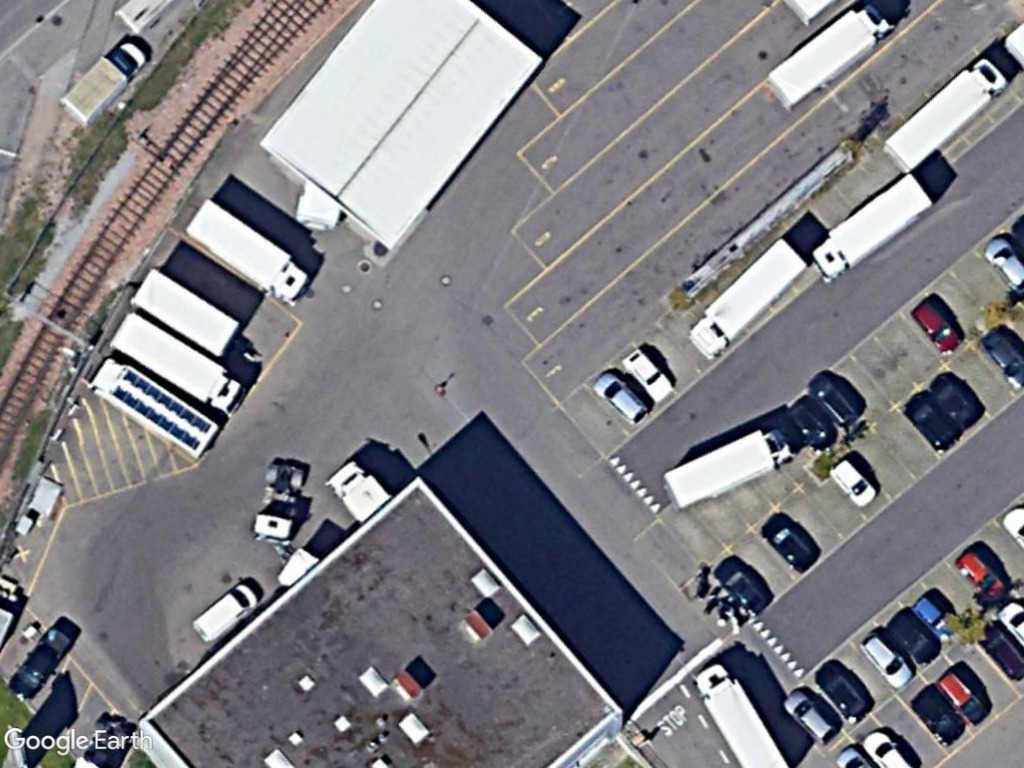car: (778, 688, 842, 747), (590, 369, 649, 428), (857, 631, 914, 691), (909, 296, 965, 355), (620, 346, 675, 406), (827, 456, 880, 509)
truck: (685, 232, 811, 360), (877, 55, 1009, 175), (180, 194, 310, 312), (763, 1, 896, 116), (808, 168, 933, 286), (86, 353, 221, 462), (108, 311, 246, 416), (659, 423, 795, 516), (57, 38, 150, 129)
van: (189, 579, 261, 646)
